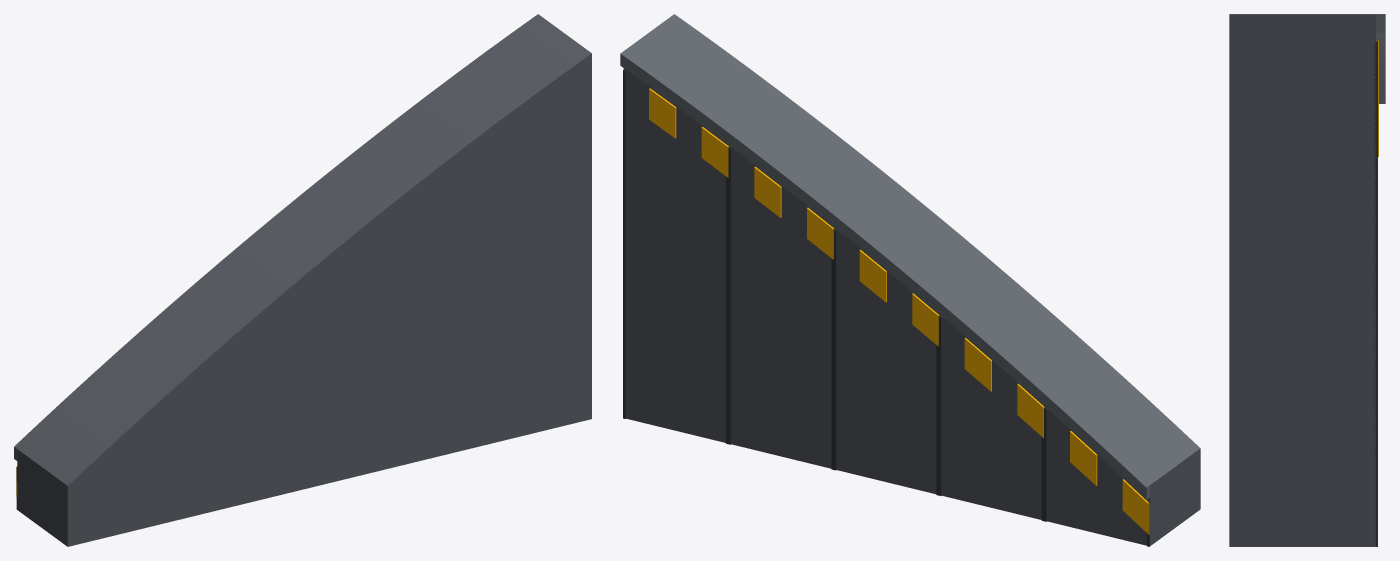
3 renders of one model, left to right at view 1: azimuth 30°, elevation 25°; view 2: azimuth 150°, elevation 25°; view 3: azimuth 270°, elevation 25°, orthographic. The views are drawn at different scales.
Parts seen in each view (by area): view 1: e23w; view 2: e23w; view 3: e23w.
Boxes of the visible parts, bbox=[...] form: e23w: bbox=[14, 14, 591, 546]; e23w: bbox=[620, 14, 1200, 546]; e23w: bbox=[1229, 14, 1385, 546].
Bounding box in the file's own units: 9 × 6 × 1.6.
